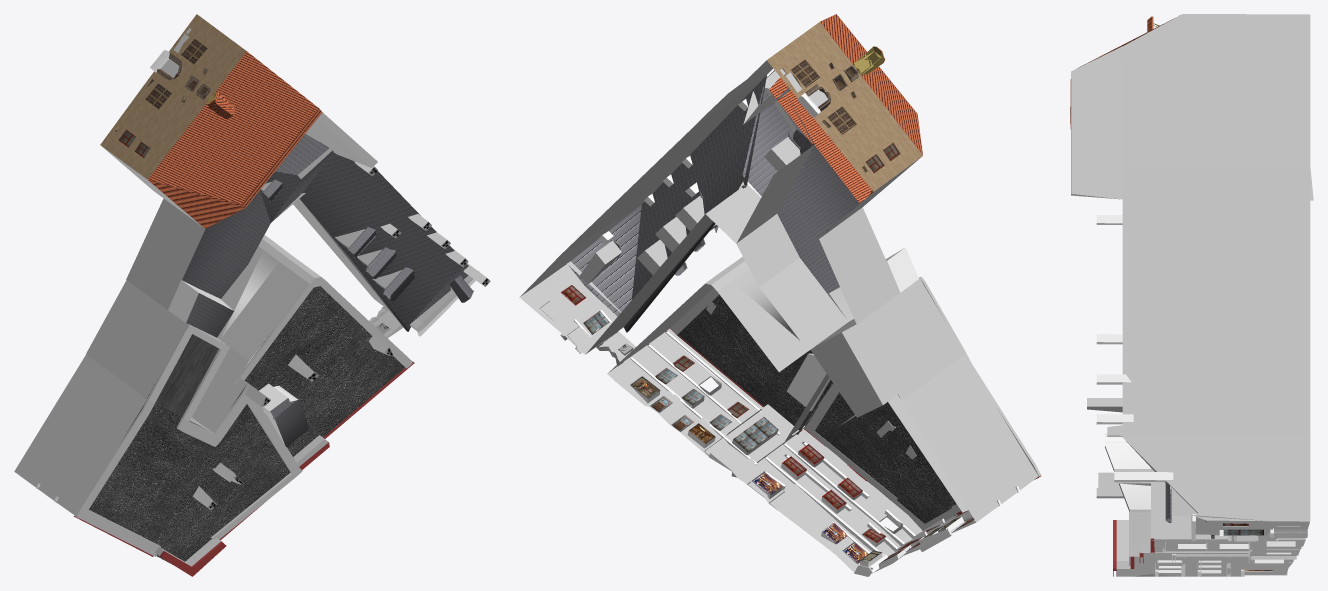
Rendered from Myyrivahe_17-origo.obj.
3 renders of one model, left to right at view 1: azimuth 30°, elevation 25°; view 2: azimuth 150°, elevation 25°; view 3: azimuth 270°, elevation 25°, orthographic. The views are drawn at different scales.
Visible parts, largest first — view 1: Plane14; view 2: Plane14; view 3: Plane14.
Part boxes in pixels (x1,y1,x2,y2): Plane14: (14, 14, 490, 576); Plane14: (519, 14, 1041, 576); Plane14: (1070, 14, 1313, 576).
Size of the model in its own units: 49.62 by 53.5 by 19.25.
